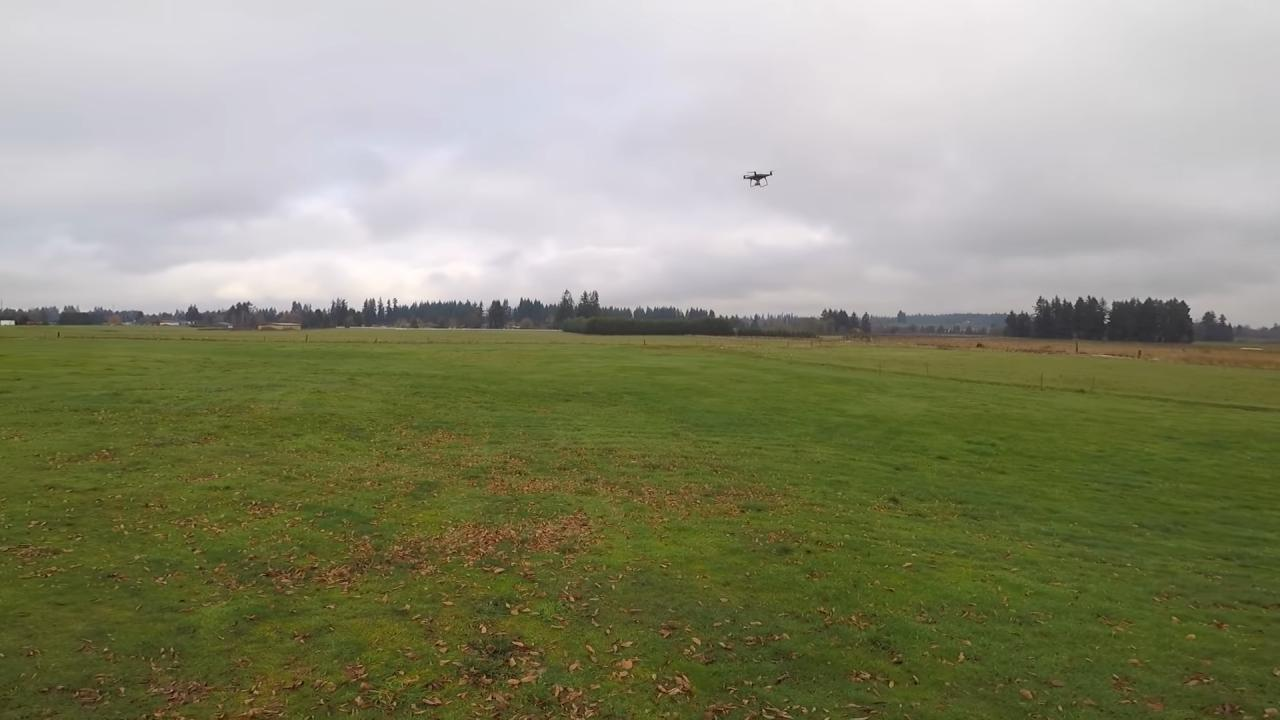Drone: (737, 166, 778, 192)
